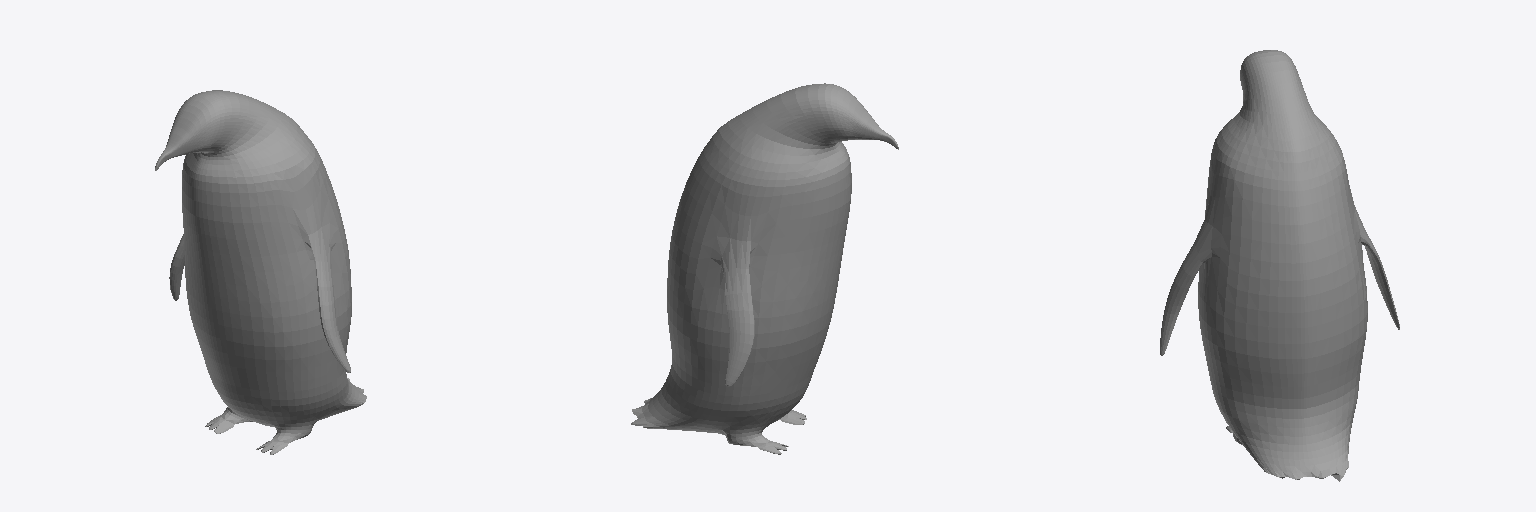
Rendered from penguin3.obj.
3 views of the same model, side by side, from view 1: azimuth 30°, elevation 25°; view 2: azimuth 150°, elevation 25°; view 3: azimuth 270°, elevation 25° (orthographic).
Visible parts, largest first — view 1: Penguin_Cylinder.003; view 2: Penguin_Cylinder.003; view 3: Penguin_Cylinder.003.
Boxes of the visible parts, box(x1,y1,x2,y2) form: Penguin_Cylinder.003: box(155, 90, 366, 454); Penguin_Cylinder.003: box(631, 83, 898, 454); Penguin_Cylinder.003: box(1160, 50, 1399, 481).
Size of the model in its own units: 2.6 by 3.82 by 2.34.